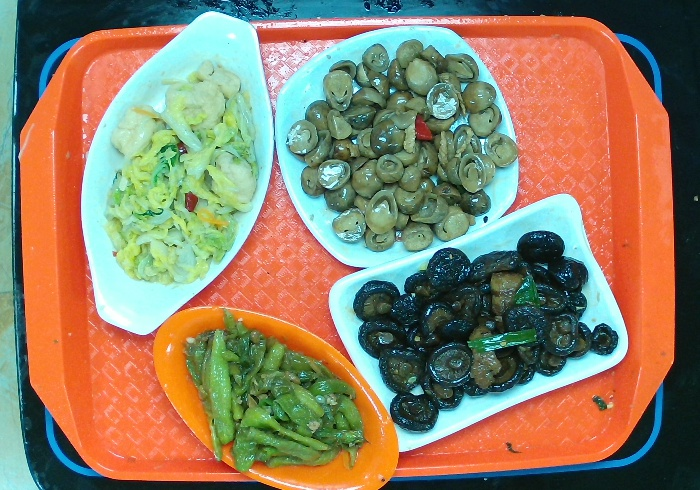RJxy-Ju_Huang_Tuo_Yuan: (138, 291, 402, 490)
RJxy-Si_Fang_Ao_Bian_Wan: (317, 188, 633, 462)
RJxy-Si_Fang_Die: (266, 22, 524, 276)
RJxy-Yu_Pan: (75, 5, 282, 344)
